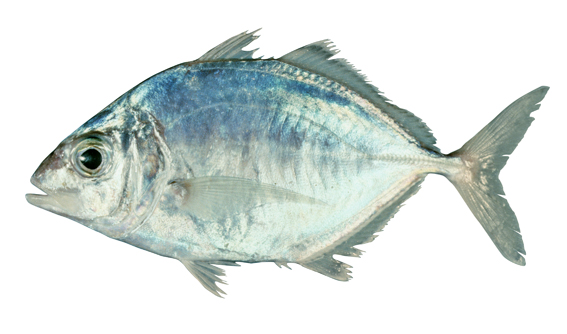fish: (26, 28, 550, 298)
